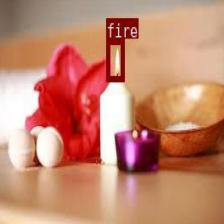fire: (106, 38, 123, 81)
